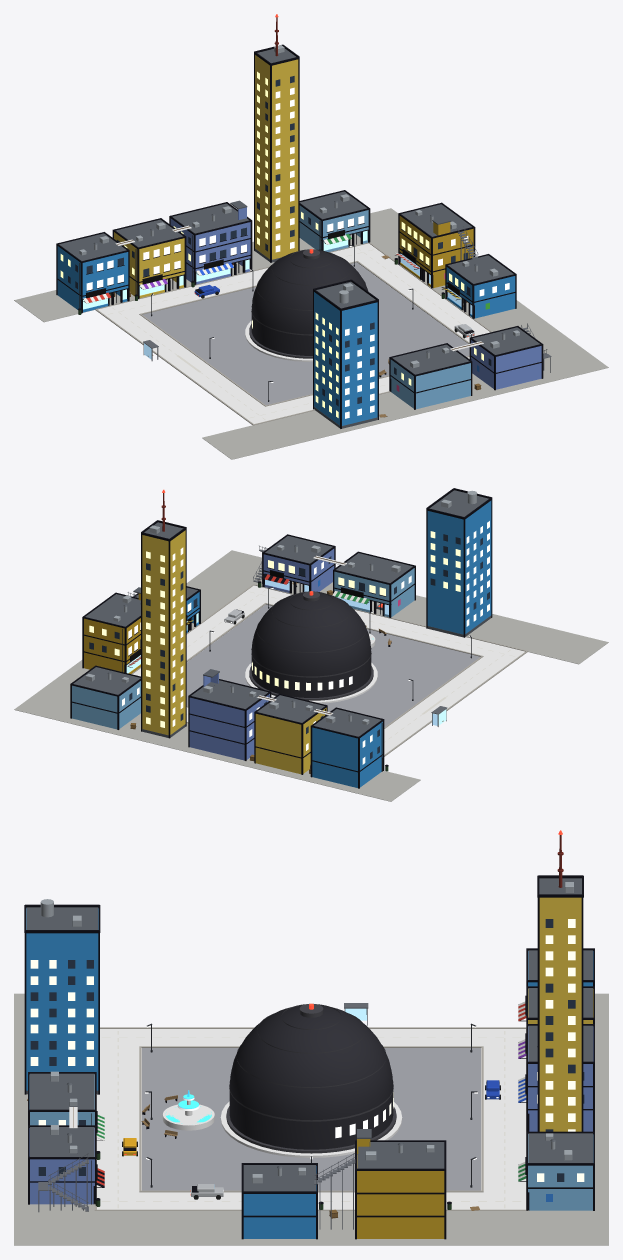
The model's file is tf-city-p1.glb.
The picture shows the model from 3 angles, top to bottom: view 1: azimuth 30°, elevation 25°; view 2: azimuth 150°, elevation 25°; view 3: azimuth 270°, elevation 25°; orthographic projection. The views are drawn at different scales.
Parts seen in each view (by area): view 1: tf-city-p1; view 2: tf-city-p1; view 3: tf-city-p1.
Boxes of the visible parts, x1=… form: tf-city-p1: x1=14, y1=14, x2=608, y2=459; tf-city-p1: x1=14, y1=488, x2=608, y2=801; tf-city-p1: x1=14, y1=830, x2=608, y2=1245.
Size of the model in its own units: 80 by 48.5 by 80.
